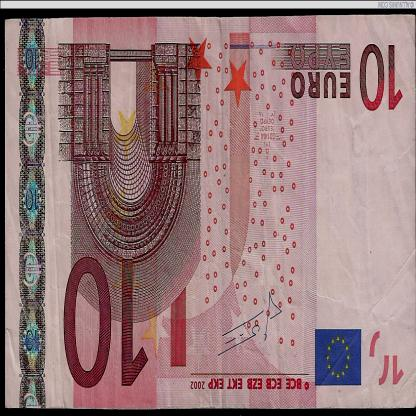euro_banknote: (5, 15, 416, 410)
